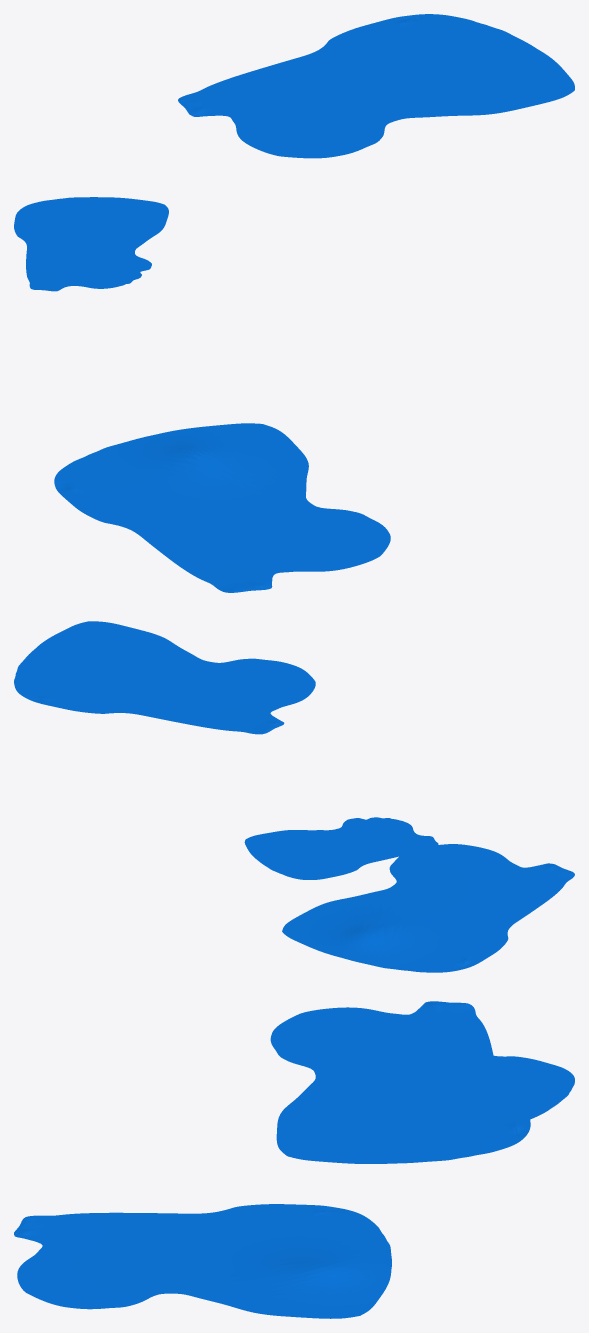
Rendered from puddles.fbx.
3 views of the same model, one above another, from view 1: azimuth 30°, elevation 25°; view 2: azimuth 150°, elevation 25°; view 3: azimuth 270°, elevation 25° (orthographic). The views are drawn at different scales.
Parts seen in each view (by area): view 1: Plane.002, Plane, Plane.001; view 2: Plane.002, Plane, Plane.001; view 3: Plane.002, Plane, Plane.001.
Boxes of the visible parts, <box> form: Plane.002: <box>54,423,390,592</box>; Plane: <box>178,14,574,158</box>; Plane.001: <box>14,197,168,291</box>; Plane.002: <box>282,844,574,972</box>; Plane: <box>14,621,315,734</box>; Plane.001: <box>244,817,438,879</box>; Plane.002: <box>14,1204,391,1318</box>; Plane: <box>270,1001,530,1163</box>; Plane.001: <box>493,1055,574,1119</box>.
Bounding box in the file's own units: 1973 × 1067 × 1824.
